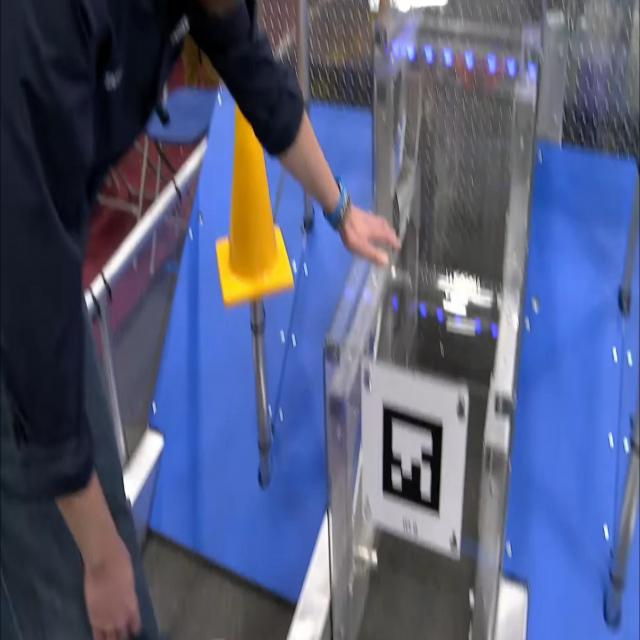frc_cone: (212, 71, 300, 307)
